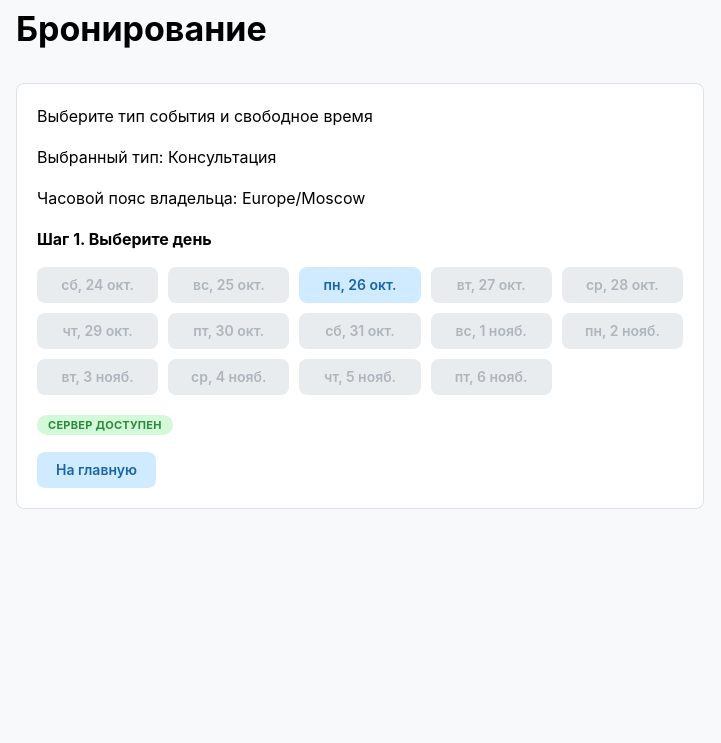
гость после конфликта выбирает другой слот и видит подтверждение
Click the button "пн, 26 окт." at (360, 285), box [299, 267, 421, 303]
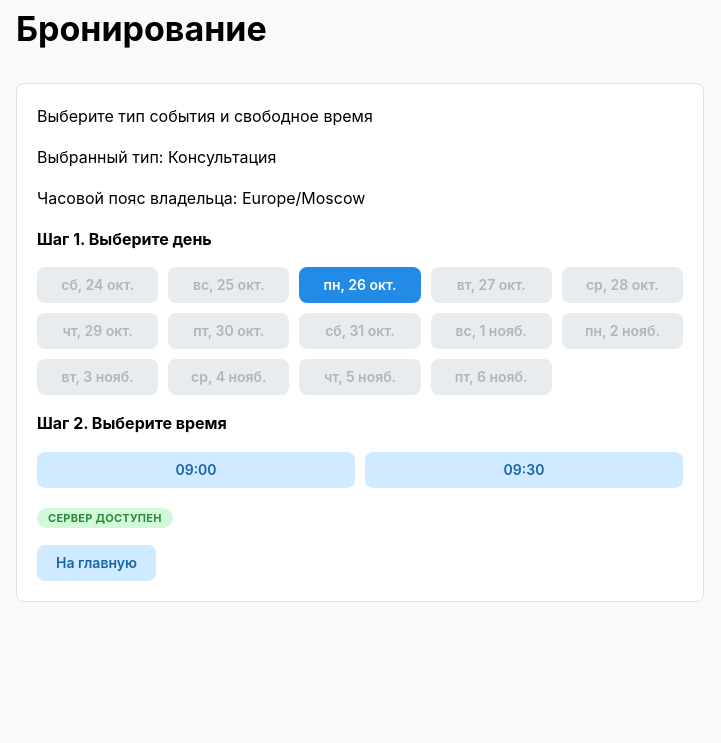
Click the button "09:00" at (196, 470), box [37, 452, 355, 488]
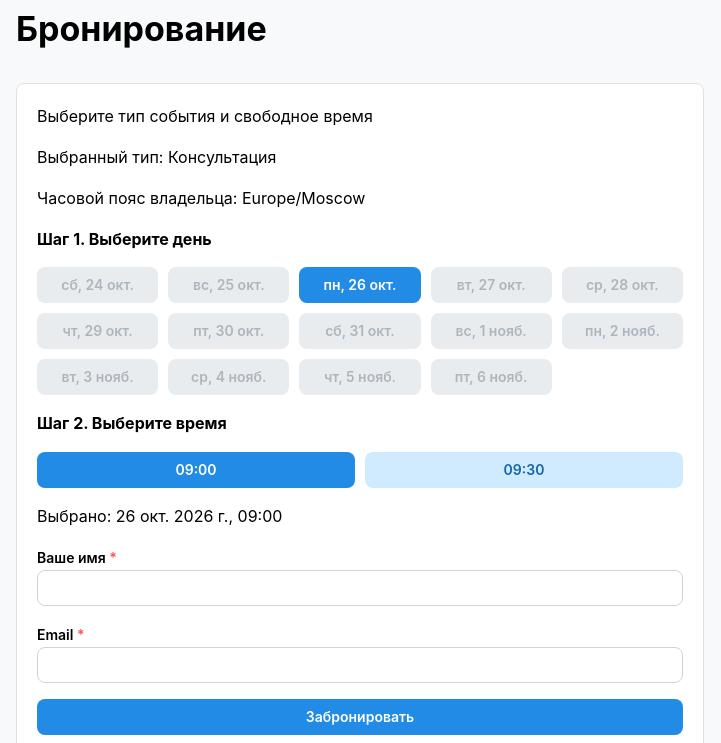
Type "Гость" into the field labelled "Ваше имя" at (360, 588), box [37, 570, 683, 606]
Type "guest@example.com" into the field labelled "Email" at (360, 665), box [37, 647, 683, 683]
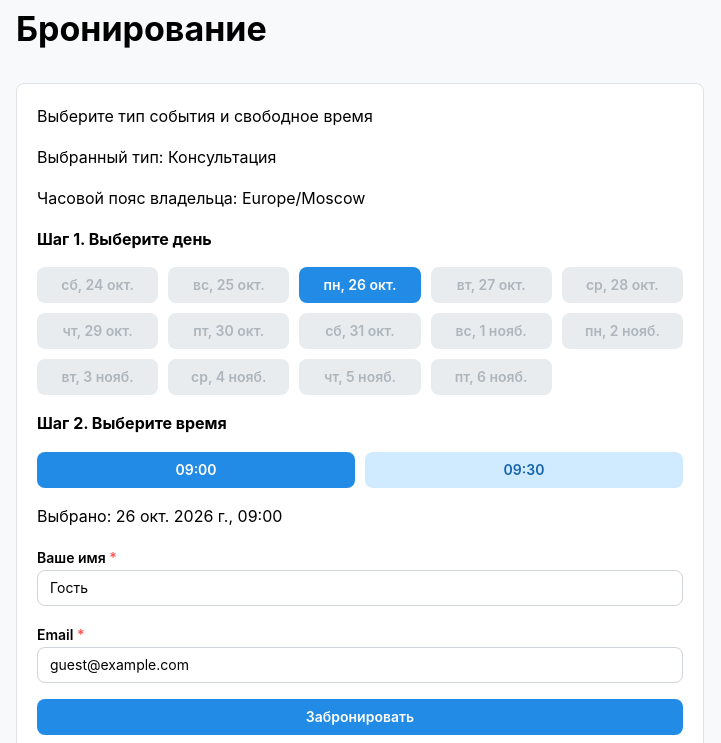
Click the button "Забронировать" at (360, 717), box [37, 699, 683, 735]
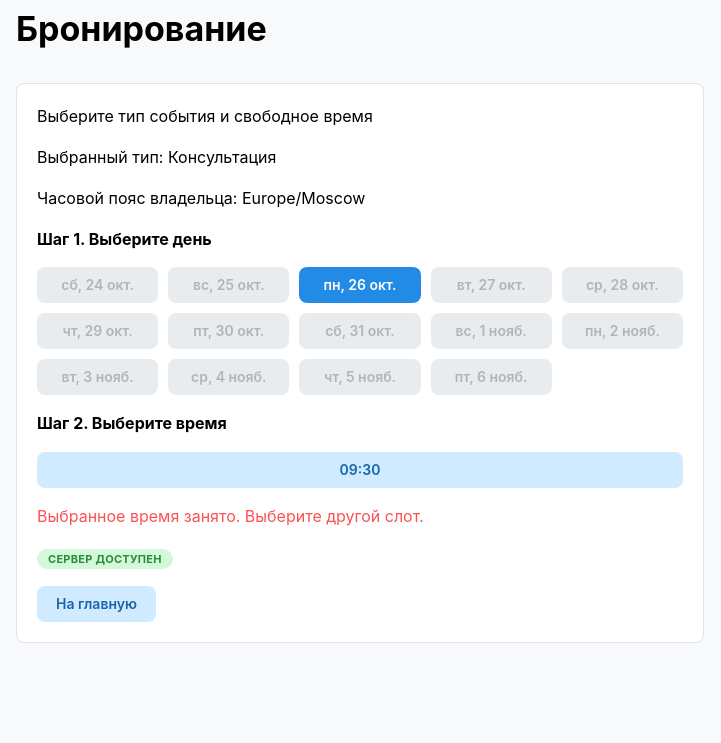
Check: the message "Выбранное время занято. Выберите другой слот." is shown, box [37, 506, 424, 526]
Check: the text "Выбрано: 26 окт. 2026 г., 09:00" is gone
Click the button "09:30" at (360, 470), box [37, 452, 683, 488]
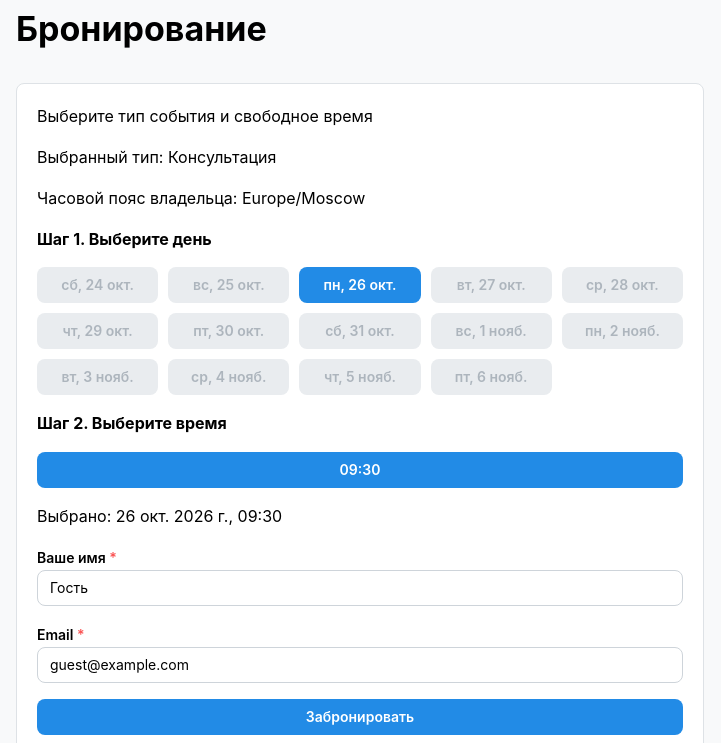
Click the button "Забронировать" at (360, 717), box [37, 699, 683, 735]
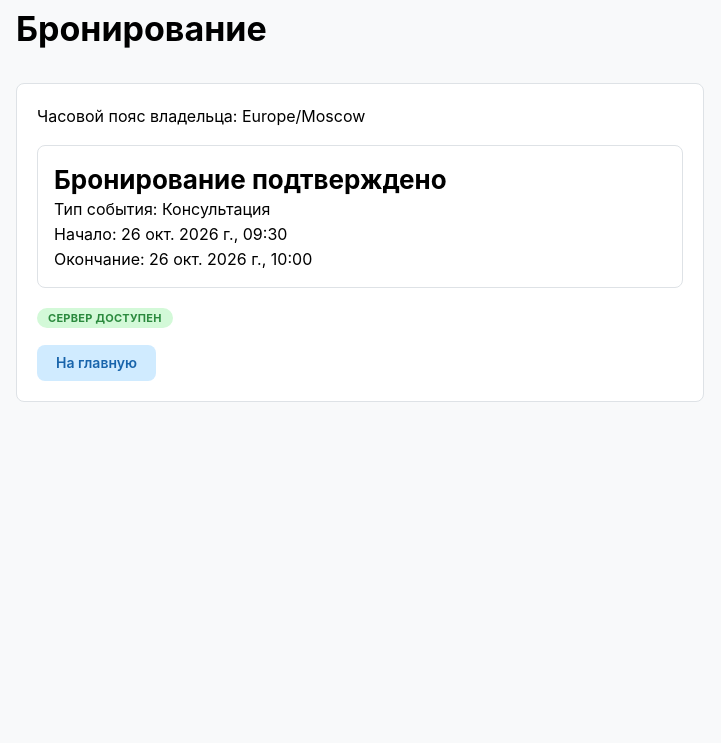
Check: the heading "Бронирование подтверждено" is shown, box [54, 164, 447, 195]
Check: the text "Выберите тип события и свободное время" is gone
Check: the text "Тип события: Консультация" is shown, box [54, 199, 270, 219]
